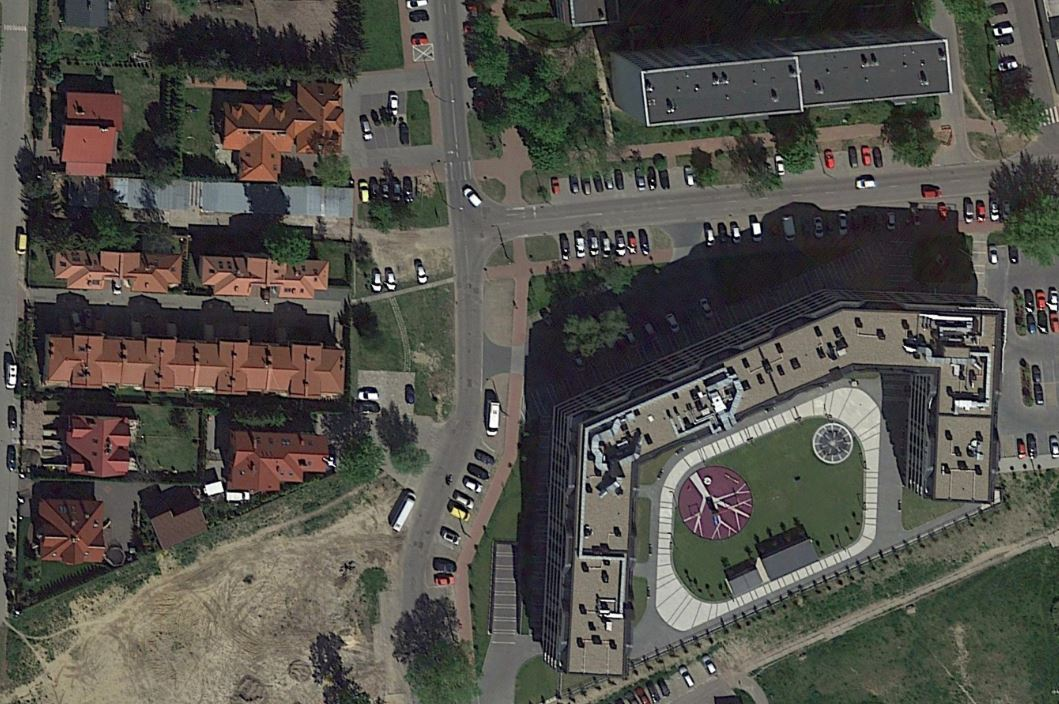block of flats: (536, 273, 1016, 683), (599, 8, 979, 144)
family house: (213, 64, 366, 193), (213, 424, 352, 503), (49, 86, 130, 186), (28, 489, 120, 566), (58, 410, 150, 487)
terrace house: (33, 314, 357, 412), (192, 246, 342, 305), (47, 244, 188, 299)
